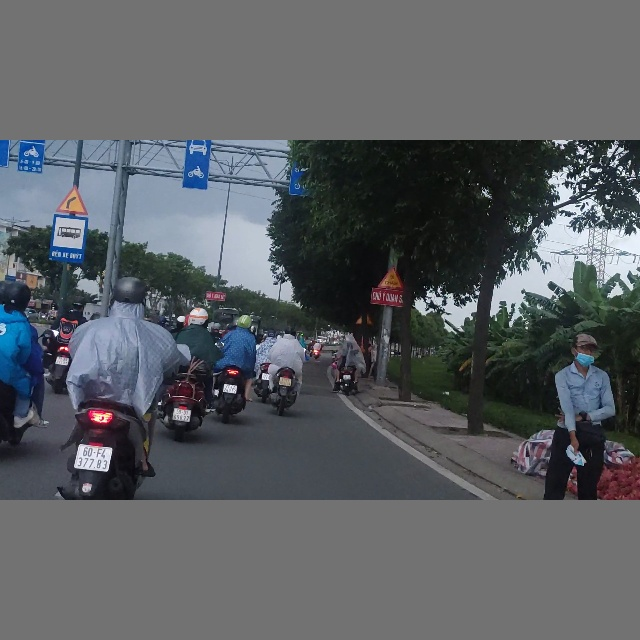I.434a: (50, 214, 87, 264)
W.201b: (54, 185, 89, 215)
W.245a: (377, 266, 403, 288)
